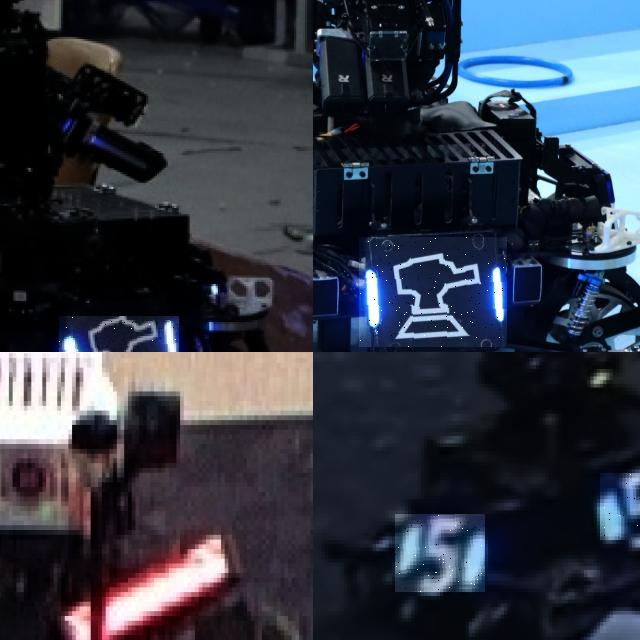B5: (395, 514, 485, 592), (600, 473, 640, 540)
Bs: (359, 237, 507, 347), (59, 315, 178, 352)
